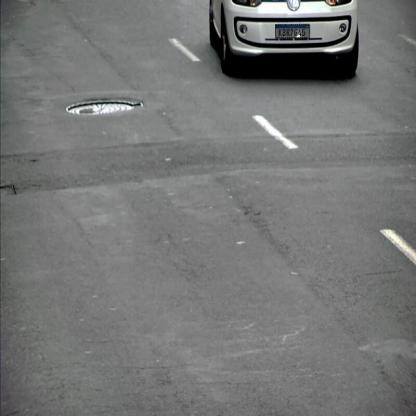PlacaM: (275, 24, 309, 38)
